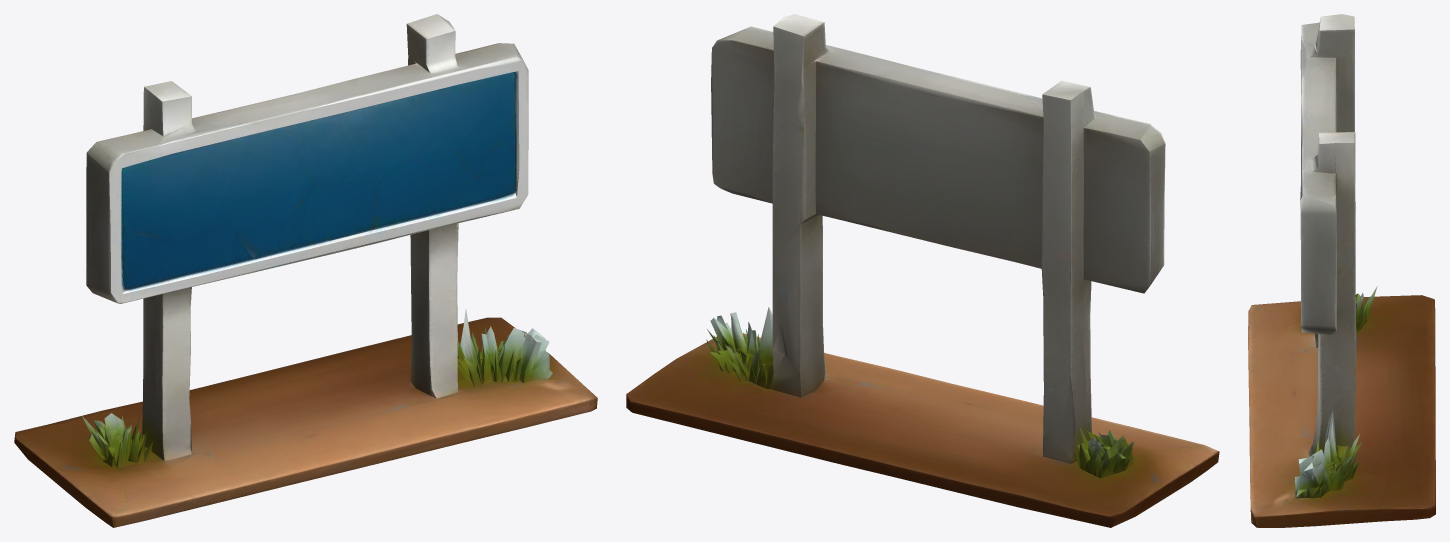
File: platformSign.glb
3 views of the same model, side by side, from view 1: azimuth 30°, elevation 25°; view 2: azimuth 150°, elevation 25°; view 3: azimuth 270°, elevation 25° (orthographic). The views are drawn at different scales.
Visible parts, largest first — view 1: model; view 2: model; view 3: model.
Part boxes in pixels (bbox=[...]): model: bbox=[14, 14, 597, 527]; model: bbox=[626, 14, 1219, 527]; model: bbox=[1248, 14, 1435, 527].
Size of the model in its own units: 1.9 by 1.41 by 0.7072.
1 material, 1 textured.
